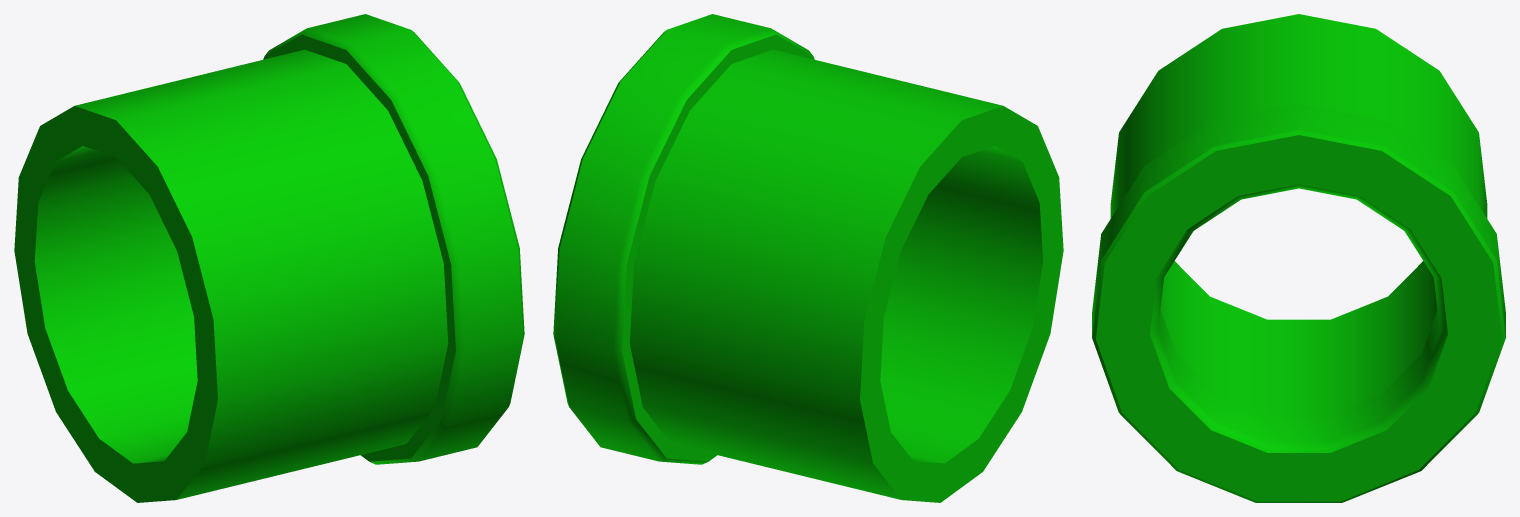
File: smol pipe 1.fbx
3 views of the same model, side by side, from view 1: azimuth 30°, elevation 25°; view 2: azimuth 150°, elevation 25°; view 3: azimuth 270°, elevation 25° (orthographic). The views are drawn at different scales.
Parts seen in each view (by area): view 1: pPipe3; view 2: pPipe3; view 3: pPipe3.
Boxes of the visible parts, x1,y1,x2,y2 form: pPipe3: [14, 14, 524, 502]; pPipe3: [553, 14, 1063, 502]; pPipe3: [1092, 14, 1505, 502].
Bounding box in the file's own units: 3.22 × 4.16 × 4.18.
